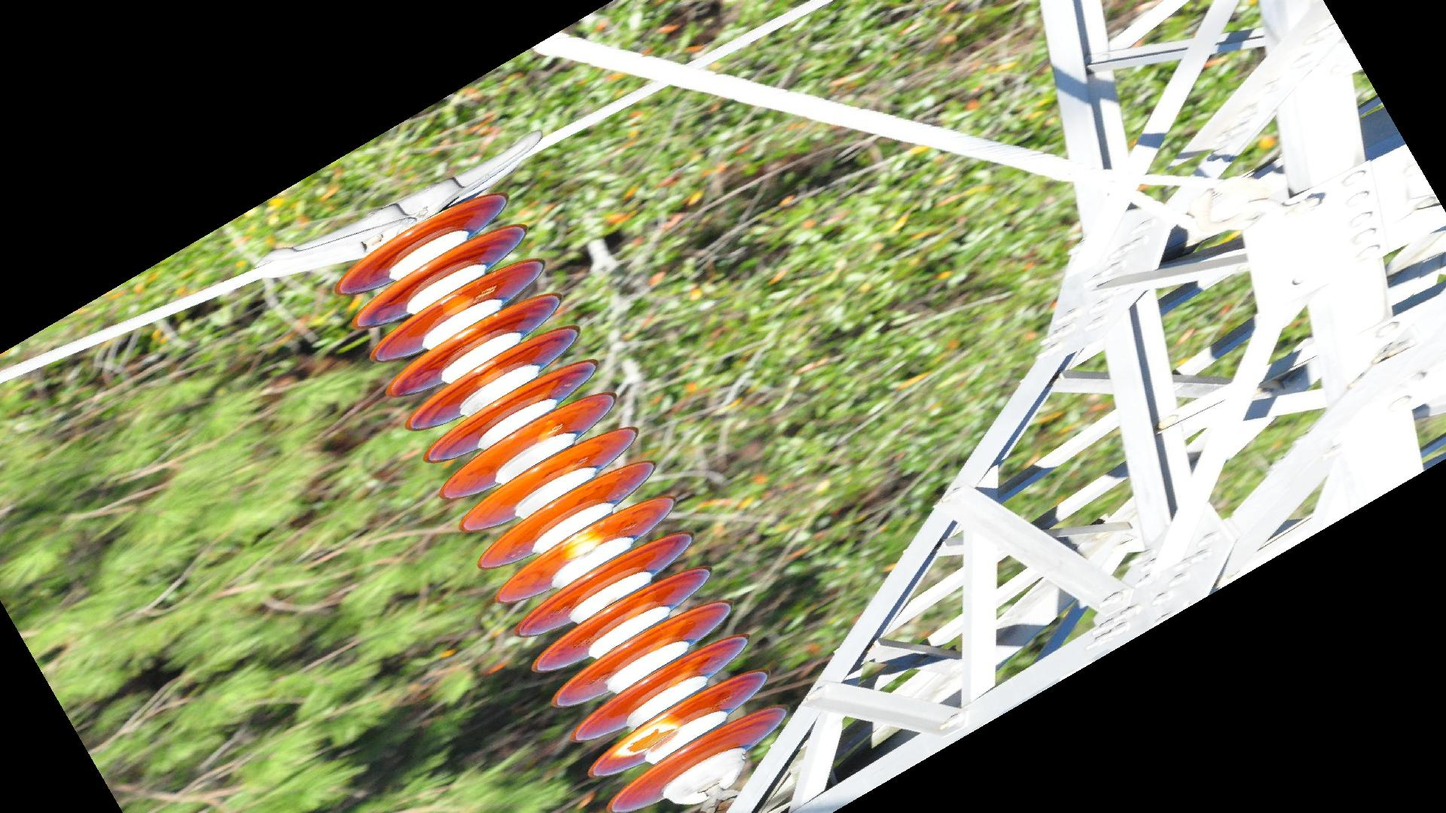insulator: (328, 187, 792, 813)
insulator_flashover: (609, 714, 681, 763), (561, 525, 605, 562)
